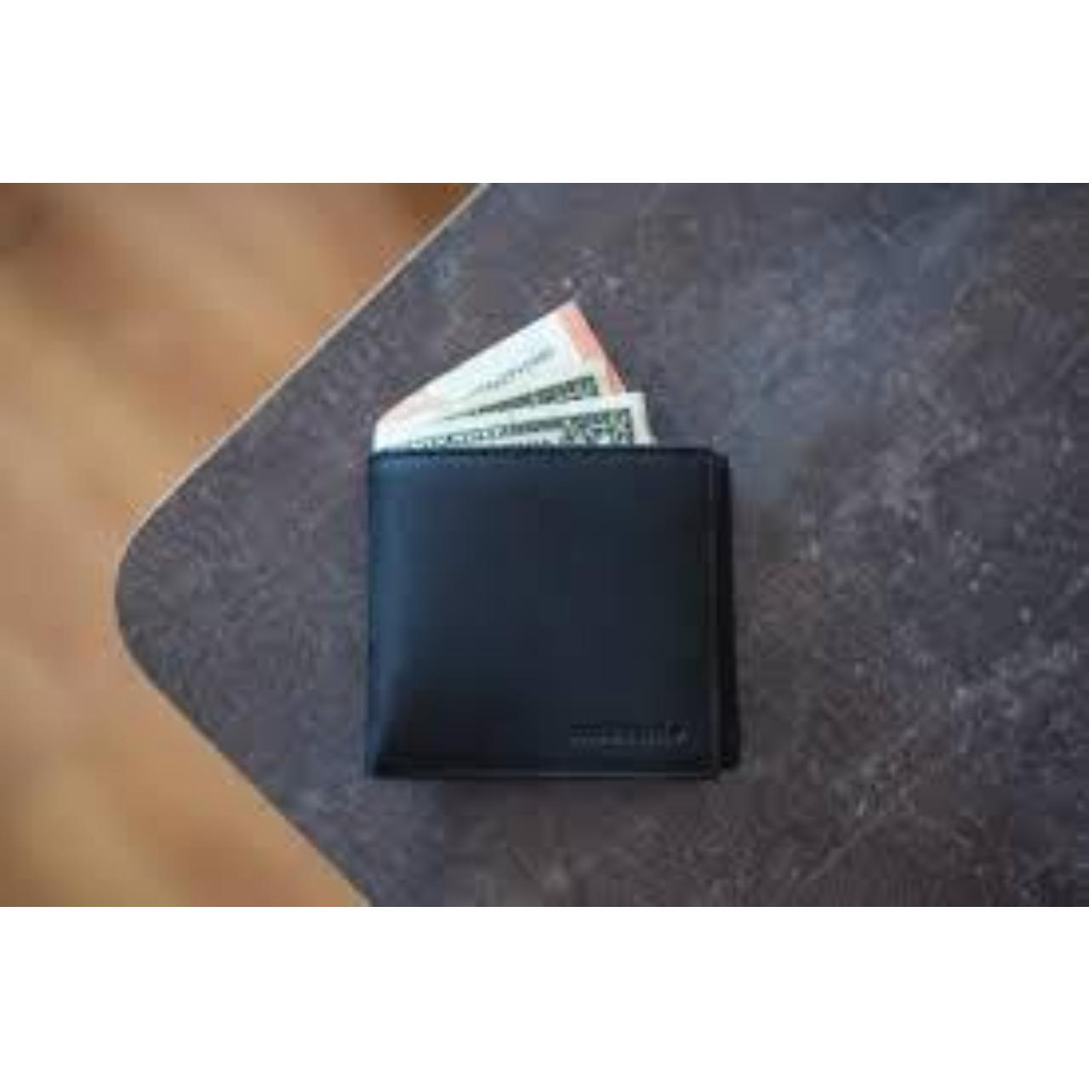wallet: (315, 303, 842, 818)
